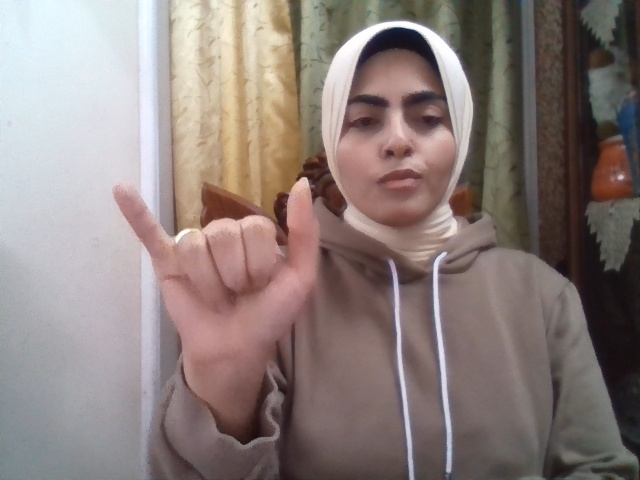Y: (114, 176, 320, 367)
